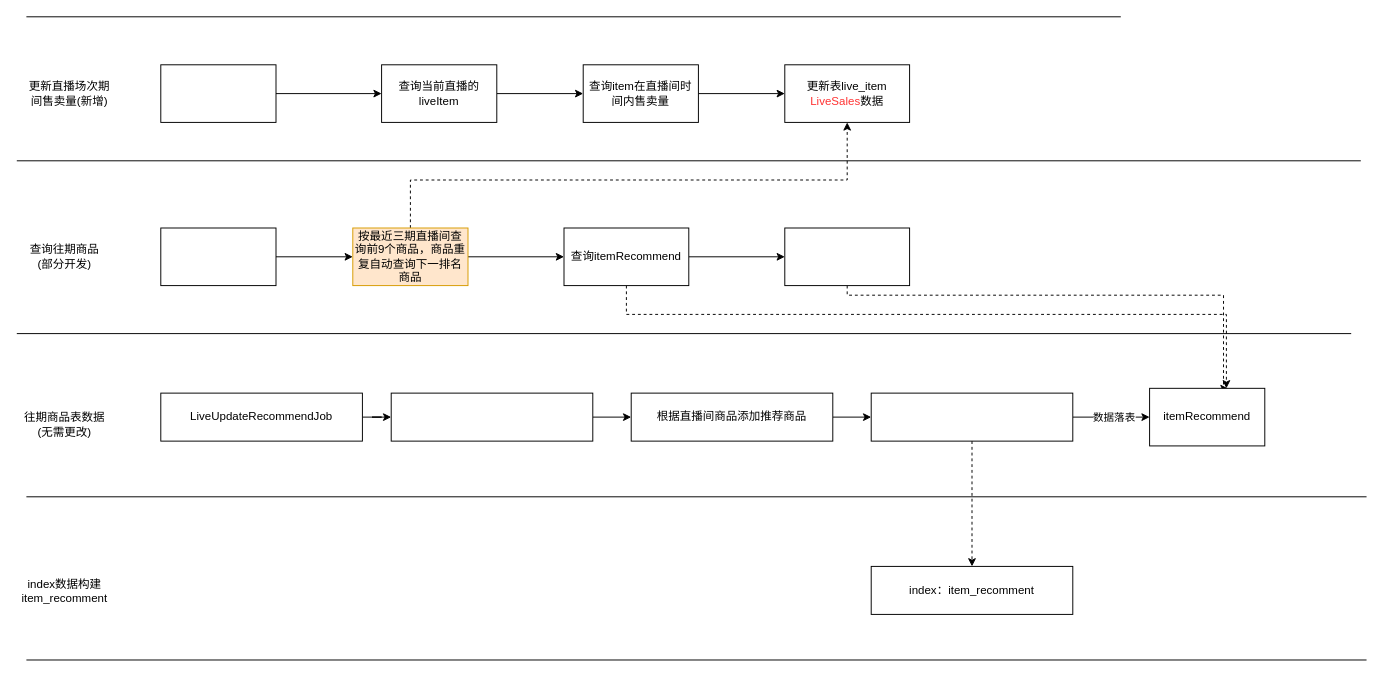
The diagram is 1384 pixels wide and 678 high, and some of its shapes have lost their labels. Here are the shapes that lost their labels. From the top down, the centre of each, then its label:
point 218,93: 直播结束
point 218,256: 查询往期商品
point 847,256: 继续查询余下的商品
point 491,416: 处理已经结束的直播场次
point 971,416: 查询索引获取销量(item_recomment)
